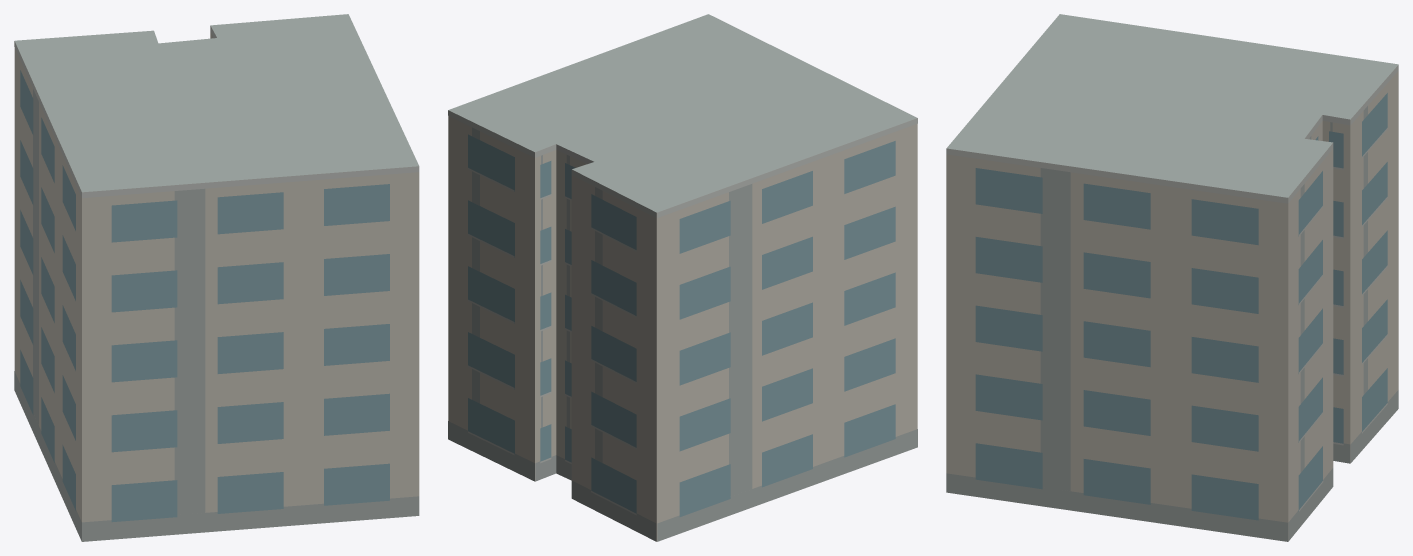
Rendered from survey-upis-32709535.glb.
3 renders of one model, left to right at view 1: azimuth 30°, elevation 25°; view 2: azimuth 150°, elevation 25°; view 3: azimuth 270°, elevation 25°, orthographic. The views are drawn at different scales.
Parts seen in each view (by area): view 1: survey-upis-32709535.tmp; view 2: survey-upis-32709535.tmp; view 3: survey-upis-32709535.tmp.
Boxes of the visible parts, x1,y1,x2,y2 form: survey-upis-32709535.tmp: [14, 14, 419, 541]; survey-upis-32709535.tmp: [448, 14, 917, 541]; survey-upis-32709535.tmp: [946, 14, 1398, 541].
Bounding box in the file's own units: 16.39 × 14.3 × 17.04.
